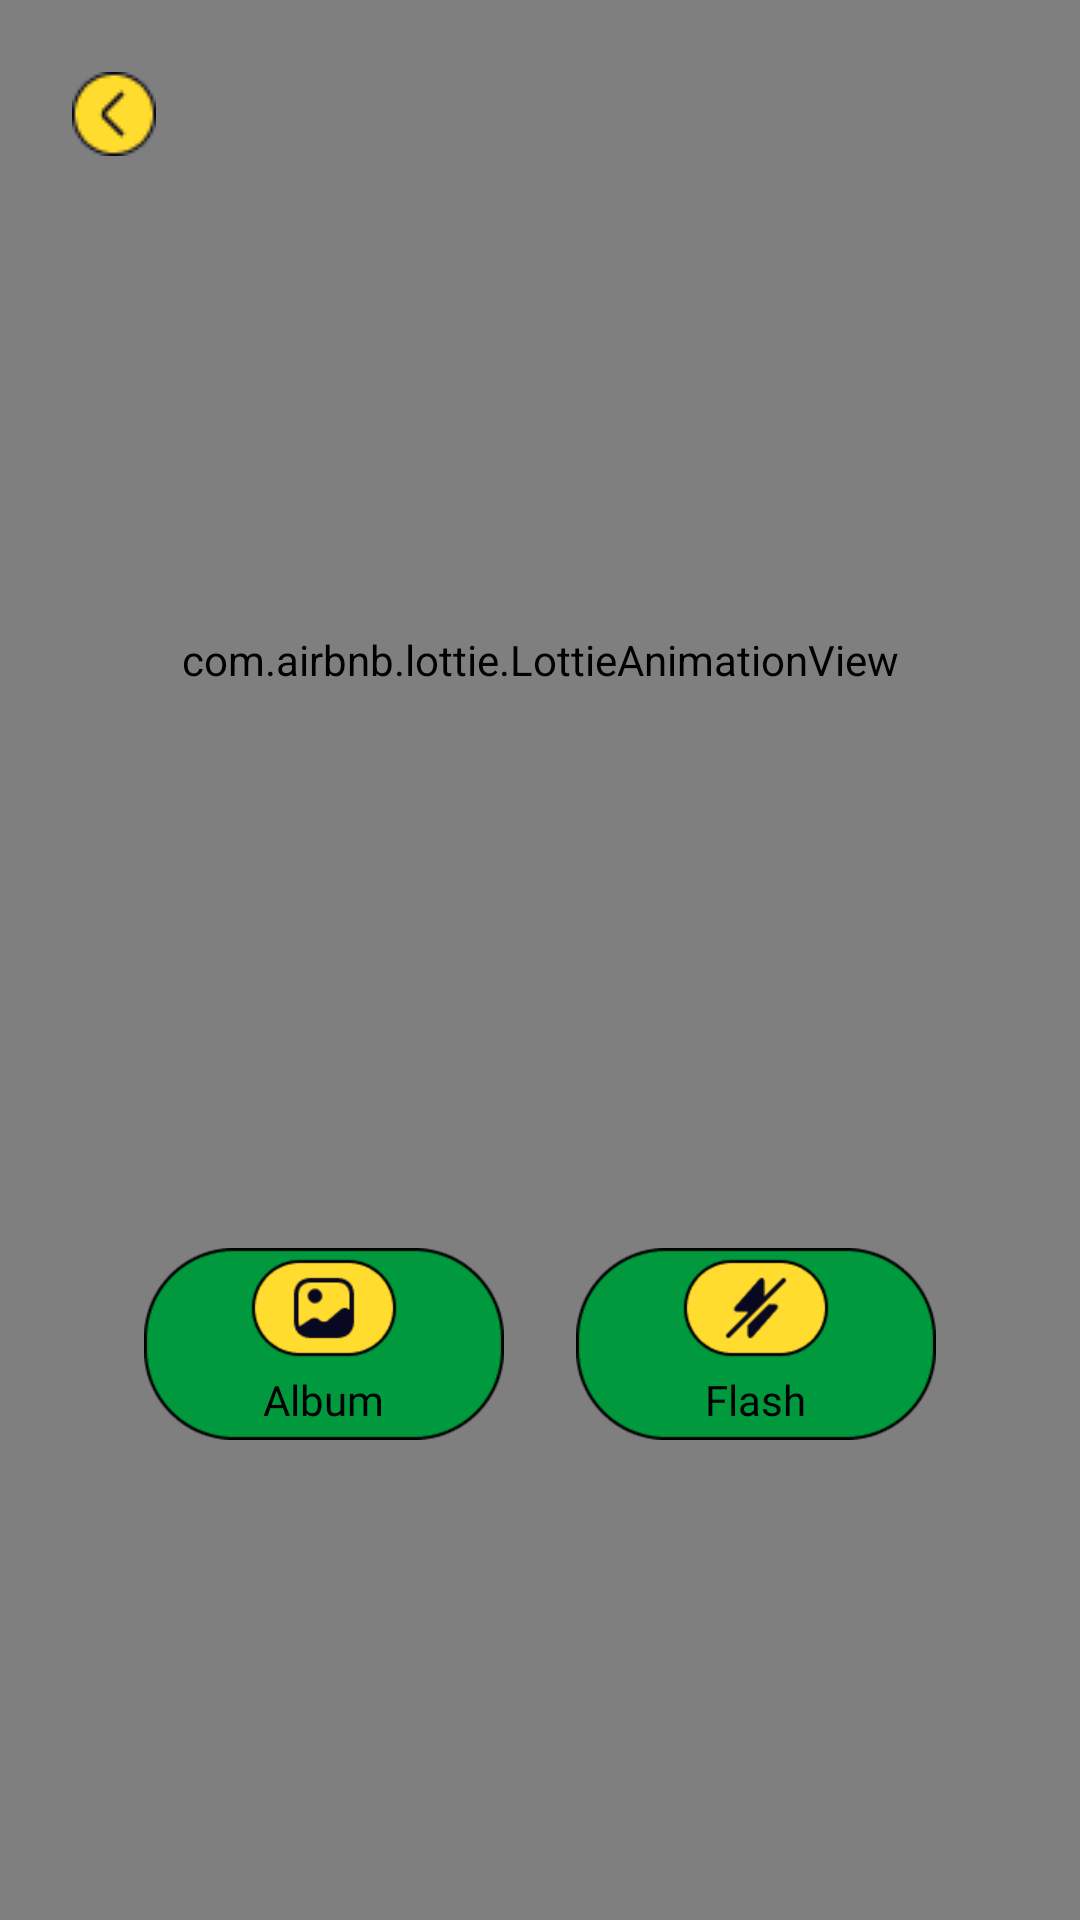

Icon bounding boxes for this 1080*1920 phone screenshot, format {"x1": x1, "y1": y1, "x2": x2, "y2": y2}:
arrow left: {"x1": 72, "y1": 72, "x2": 156, "y2": 156}
